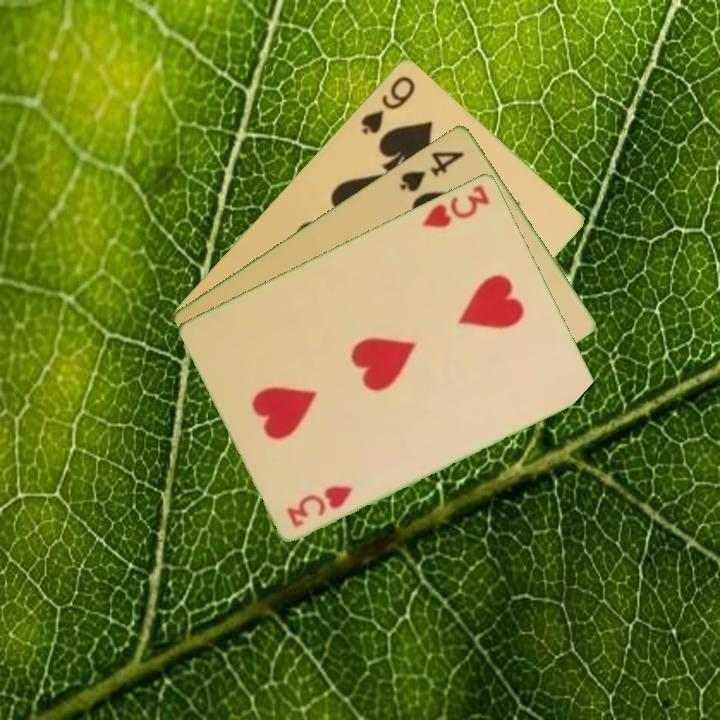3h: (418, 180, 493, 231), (283, 481, 356, 530)
4s: (395, 147, 467, 195)
9s: (357, 72, 419, 137)
